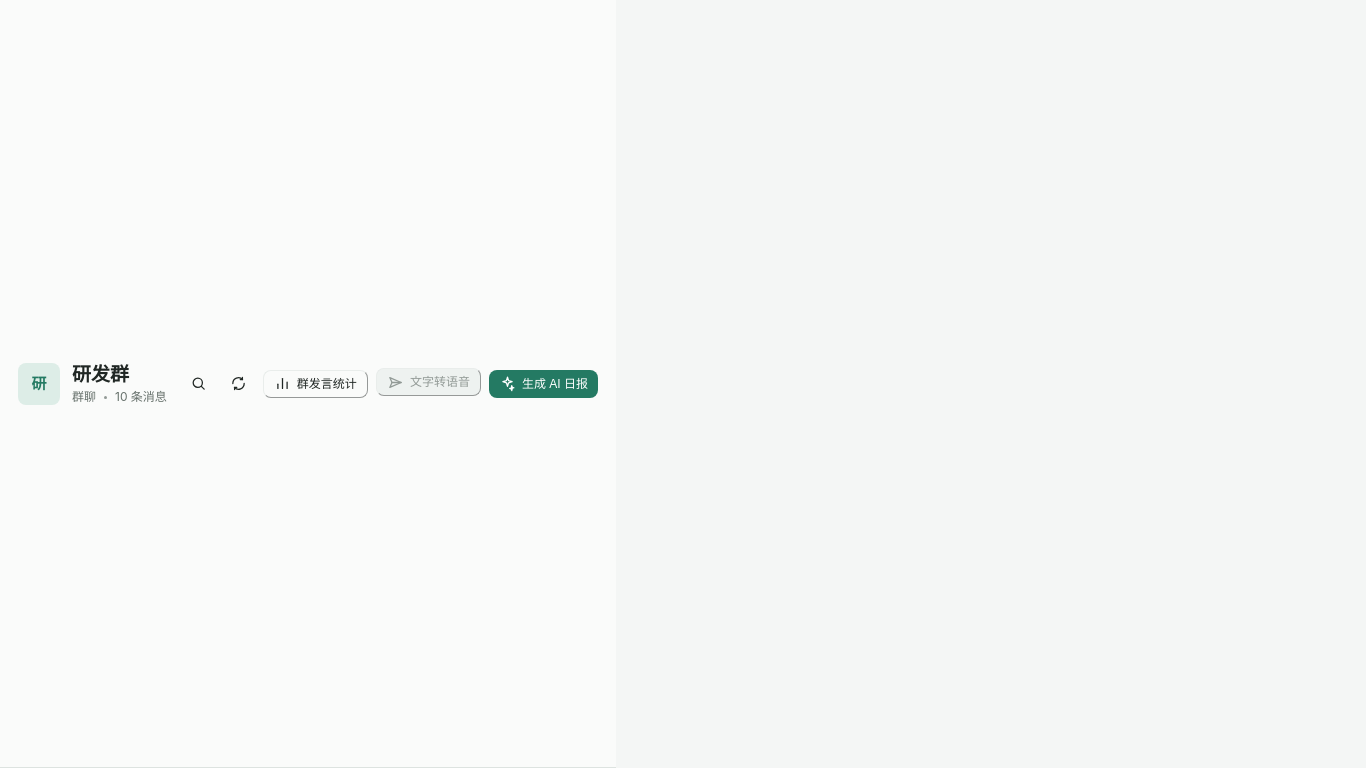
ChatHeader · 群发言统计入口 › 点击入口直接打开群发言统计面板
The image size is (1366, 768).
Click the button "群发言统计". click: [315, 384]
box: left=263, top=370, right=368, bottom=398
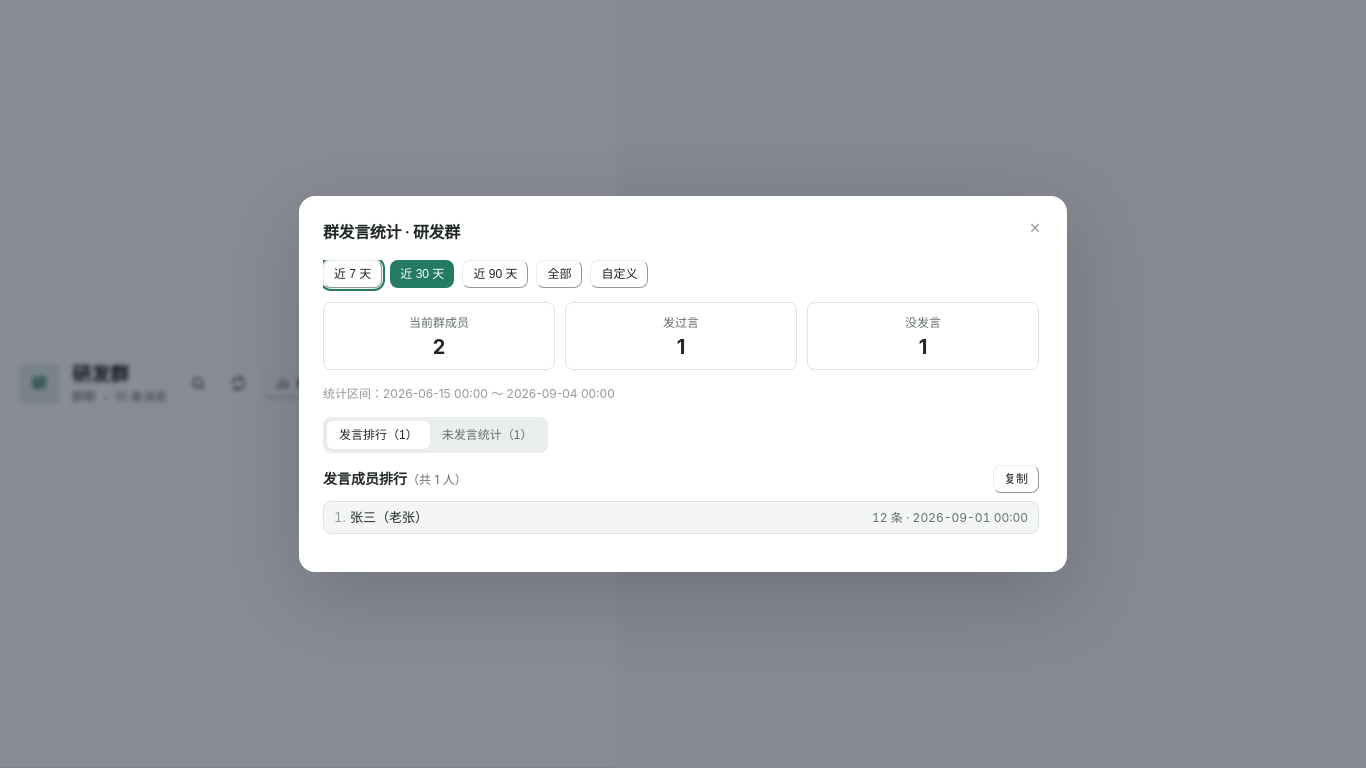
Expected: the dialog "群发言统计 · 研发群" is shown, left=299, top=196, right=1067, bottom=572
